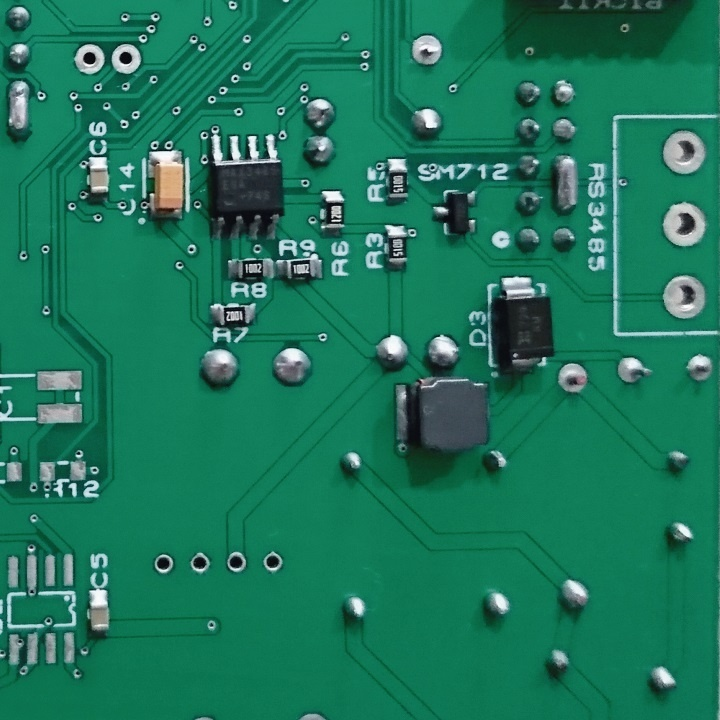F: (659, 123, 710, 179), (659, 199, 710, 251), (662, 273, 708, 322), (555, 359, 596, 400), (407, 32, 448, 72), (110, 40, 146, 78), (614, 354, 656, 386), (681, 349, 716, 386), (70, 43, 107, 77), (187, 549, 212, 577), (261, 548, 285, 577), (224, 549, 249, 576), (152, 552, 176, 576)
P: (4, 76, 35, 147), (549, 149, 581, 215)
